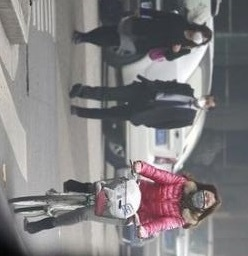person: (23, 160, 219, 239), (69, 72, 217, 132), (70, 7, 213, 69)
